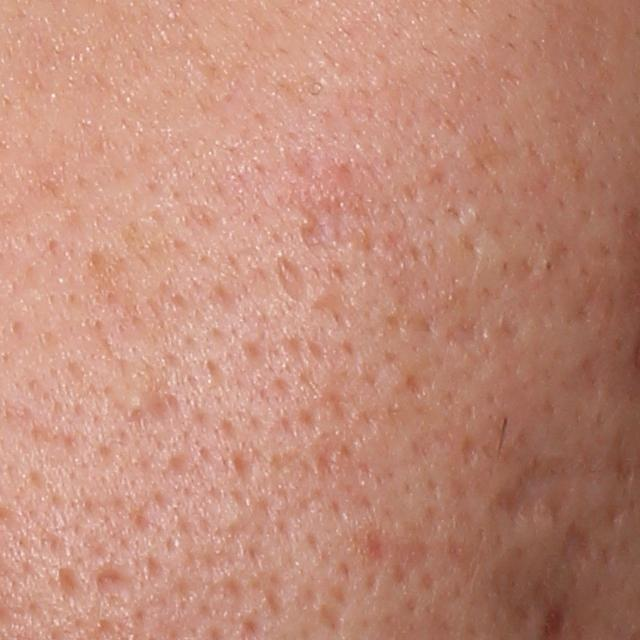atrophic_scar: (558, 524, 597, 587), (272, 253, 310, 304), (53, 566, 88, 608), (93, 565, 139, 594)
comedo: (537, 256, 556, 276)
